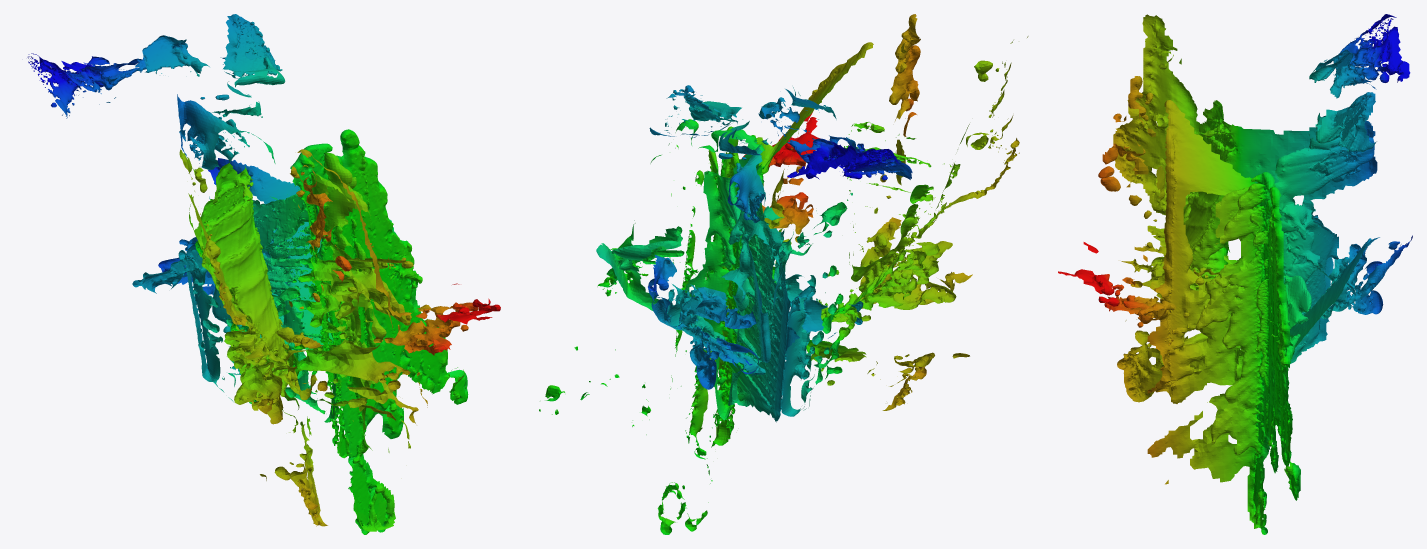
3 views of the same model, side by side, from view 1: azimuth 30°, elevation 25°; view 2: azimuth 150°, elevation 25°; view 3: azimuth 270°, elevation 25° (orthographic). The views are drawn at different scales.
Parts seen in each view (by area): view 1: geometry_0; view 2: geometry_0; view 3: geometry_0.
Part boxes in pixels (left/top/right/bottom): geometry_0: left=27, top=14, right=500, bottom=534; geometry_0: left=539, top=14, right=1028, bottom=534; geometry_0: left=1058, top=14, right=1412, bottom=534.
Size of the model in its own units: 1.48 by 1.76 by 1.37.
